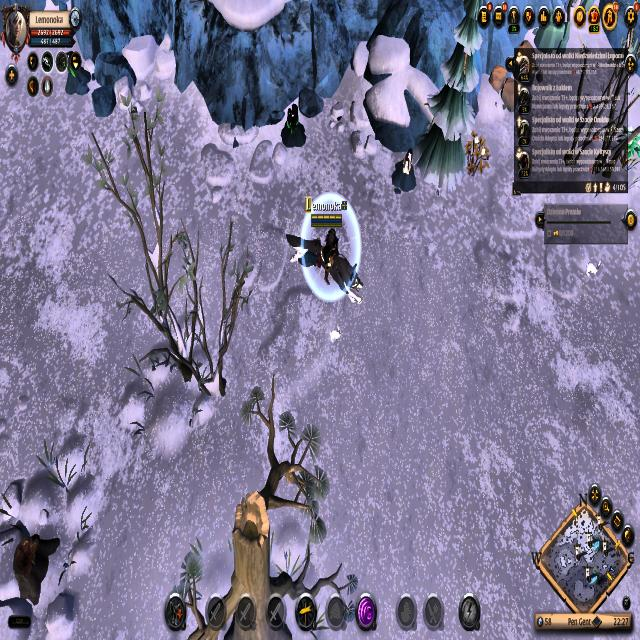fiber tier 2: (464, 127, 492, 185)
ore tier 2: (392, 145, 418, 198)
ore tier 3: (280, 100, 308, 153)
